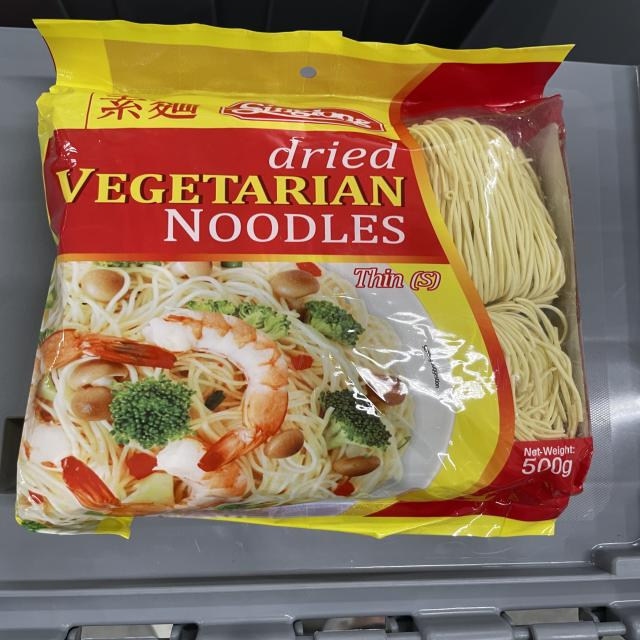object_name: (36, 24, 582, 517)
